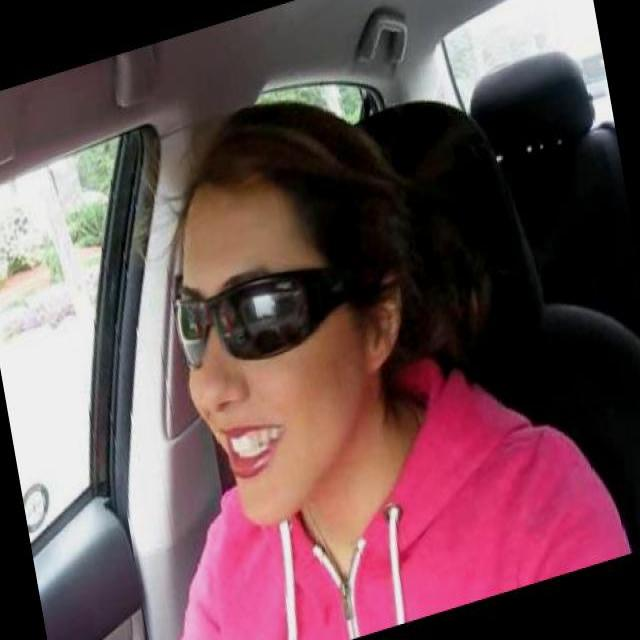no-seatbelt: (168, 346, 586, 638)
